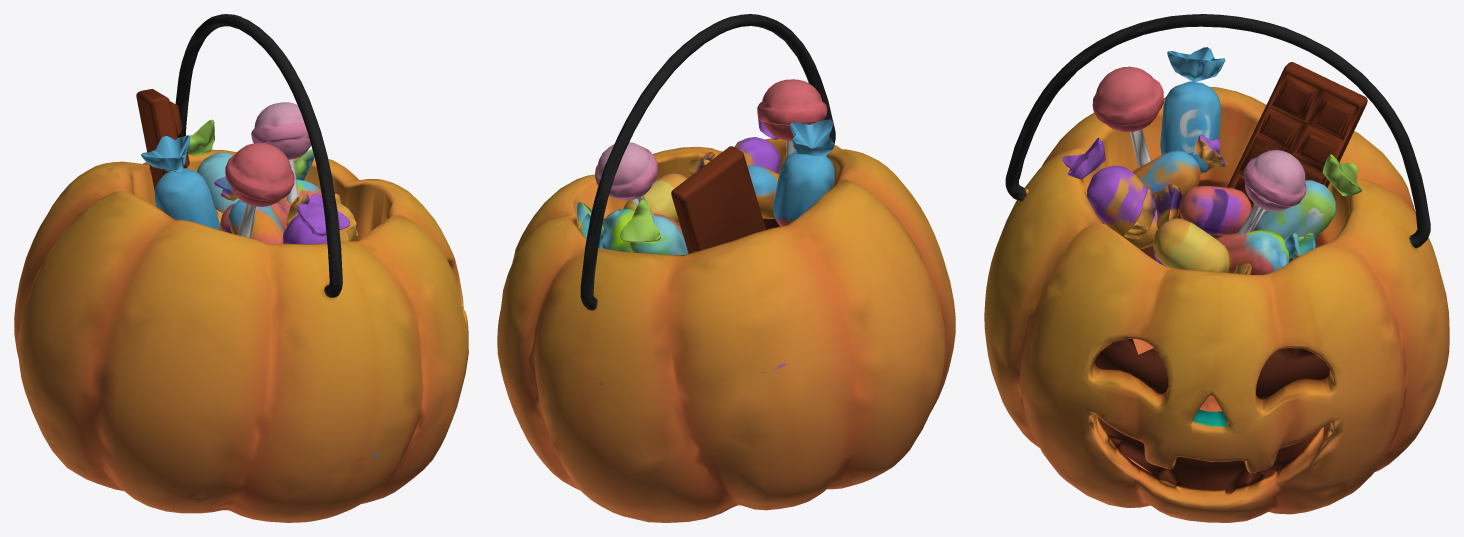
Rendered from S2_CandyBucket_LOD0.fbx.
3 views of the same model, side by side, from view 1: azimuth 30°, elevation 25°; view 2: azimuth 150°, elevation 25°; view 3: azimuth 270°, elevation 25° (orthographic). The views are drawn at different scales.
Visible parts, largest first — view 1: PART_Bucket.001, PART_Candy_02.001, PART_Candy_07.001, PART_Candy_03.001, PART_Candy_04.001, PART_Candy_10.001, PART_Candy_14.001, PART_Candy_11.001, PART_Candy_17.001, PART_Candy_12.001, PART_Candy_22.001; view 2: PART_Bucket.001, PART_Candy_04.001, PART_Candy_07.001, PART_Candy_02.001, PART_Candy_03.001, PART_Candy_14.001, PART_Candy_11.001, PART_Candy_09.001, PART_Candy_22.001, PART_Candy_06.001, PART_Candy_10.001, PART_Candy_12.001; view 3: PART_Bucket.001, PART_Candy_04.001, PART_Candy_02.001, PART_Candy_07.001, PART_Candy_03.001, PART_Candy_12.001, PART_Candy_09.001, PART_Candy_08.001, PART_Candy_11.001, PART_Candy_06.001, PART_Candy_10.001, PART_Candy_14.001 (+6 smaller).
Part boxes in pixels (<box>): PART_Bucket.001: <box>14,14,468,522</box>; PART_Candy_02.001: <box>225,142,294,237</box>; PART_Candy_07.001: <box>154,168,219,229</box>; PART_Candy_03.001: <box>251,102,310,203</box>; PART_Candy_04.001: <box>136,89,189,190</box>; PART_Candy_10.001: <box>228,199,284,243</box>; PART_Candy_14.001: <box>141,135,190,172</box>; PART_Candy_11.001: <box>197,152,239,213</box>; PART_Candy_17.001: <box>296,193,349,236</box>; PART_Candy_12.001: <box>283,215,327,244</box>; PART_Candy_22.001: <box>177,119,214,155</box>; PART_Bucket.001: <box>497,14,955,522</box>; PART_Candy_04.001: <box>671,146,765,253</box>; PART_Candy_07.001: <box>773,151,834,226</box>; PART_Candy_02.001: <box>757,79,827,157</box>; PART_Candy_03.001: <box>595,142,658,215</box>; PART_Candy_14.001: <box>790,119,834,156</box>; PART_Candy_11.001: <box>629,215,688,255</box>; PART_Candy_09.001: <box>623,173,687,222</box>; PART_Candy_22.001: <box>620,199,660,243</box>; PART_Candy_06.001: <box>602,209,682,252</box>; PART_Candy_10.001: <box>747,165,779,218</box>; PART_Candy_12.001: <box>734,137,780,173</box>; PART_Bucket.001: <box>984,14,1449,522</box>; PART_Candy_04.001: <box>1227,62,1367,209</box>; PART_Candy_02.001: <box>1092,66,1163,167</box>; PART_Candy_07.001: <box>1160,81,1220,174</box>; PART_Candy_03.001: <box>1237,150,1306,235</box>; PART_Candy_12.001: <box>1087,165,1157,248</box>; PART_Candy_09.001: <box>1153,218,1229,272</box>; PART_Candy_08.001: <box>1179,186,1251,235</box>; PART_Candy_11.001: <box>1255,180,1335,258</box>; PART_Candy_06.001: <box>1216,230,1288,274</box>; PART_Candy_10.001: <box>1133,151,1200,198</box>; PART_Candy_14.001: <box>1167,47,1225,82</box>.
Bounding box in the file's own units: 0.2266 × 0.24 × 0.2189.
Materials: 25 (25 with a texture image).
